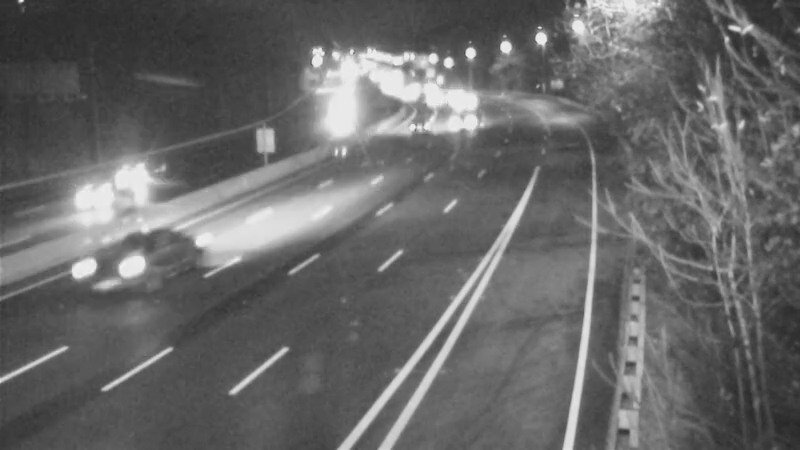vehicle: (68, 230, 148, 310), (51, 159, 131, 239), (86, 136, 166, 216), (404, 62, 454, 112), (383, 73, 433, 123), (401, 76, 451, 126), (435, 78, 485, 128), (439, 95, 489, 145), (396, 97, 446, 147)
